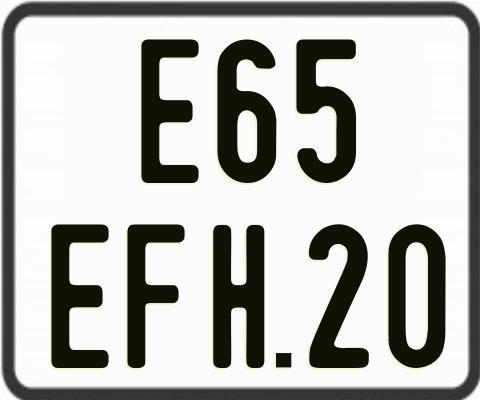0: (388, 221, 446, 365)
2: (308, 224, 368, 369)
5: (295, 40, 358, 188)
6: (217, 40, 277, 184)
E: (50, 225, 112, 369), (138, 38, 197, 184)
F: (124, 223, 186, 366)
H: (212, 222, 265, 367)
